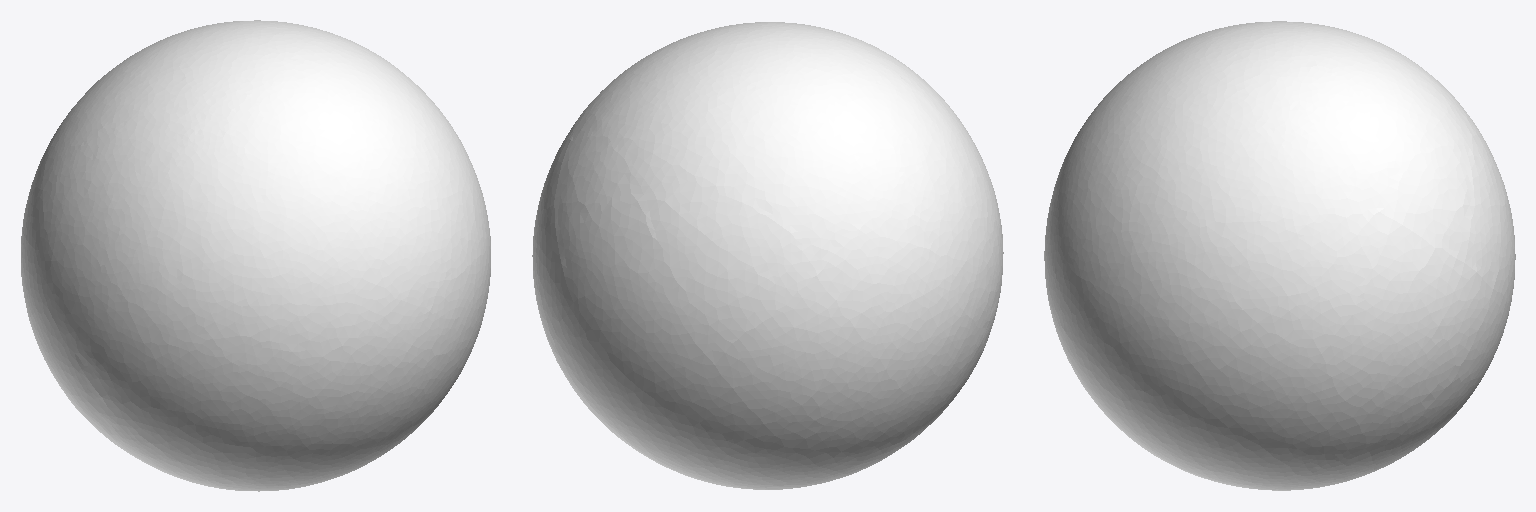
robot.urdf — racquetball:
<robot name="racquetball">
    <link name="base_link">
        <visual>
            <origin xyz="0.0 -0.0 0.0" rpy="0.0 0.0 0.0" />
            <geometry>
                <mesh filename="racquetball/textured.obj" scale="1 1 1" />
            </geometry>
            <material name="texture">
                <color rgba="1.0 1.0 1.0 1.0" />
            </material>
        </visual>
        <collision>
            <origin xyz="0.0 -0.0 0.0" rpy="0.0 0.0 0.0" />
            <geometry>
                <mesh filename="racquetball/textured_coacd_0.stl" scale="1 1 1" />
            </geometry>
        </collision>
        <inertial>
            <mass value="0.041" />
            <inertia ixx="1e-3" ixy="0.0" ixz="0.0" iyy="1e-3" iyz="0.0" izz="1e-3" />
        </inertial>
    </link>
</robot>

--- Facts derived from the render (not from the file) ---
Views: 3 orthographic renders of the robot side by side, from view 1: azimuth 30°, elevation 25°; view 2: azimuth 150°, elevation 25°; view 3: azimuth 270°, elevation 25°.
Robot: racquetball — 1 links, 0 joints (none); root link base_link; default pose: all joints at 0.
Links seen in each view (by area): view 1: base_link; view 2: base_link; view 3: base_link.
Link boxes in pixels (x1,y1,x2,y2): base_link: (21,20,490,491); base_link: (532,22,1003,489); base_link: (1044,21,1515,490).
Bounding box of the posed robot: 0.0557 × 0.0558 × 0.0556 m (x, y, z).
Meshes: 1 distinct files referenced, 1 mesh visuals loaded (1 OBJ).